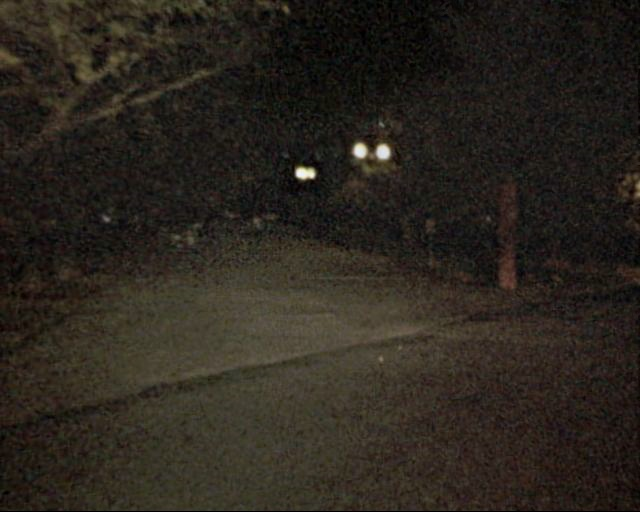person: (251, 209, 269, 253)
